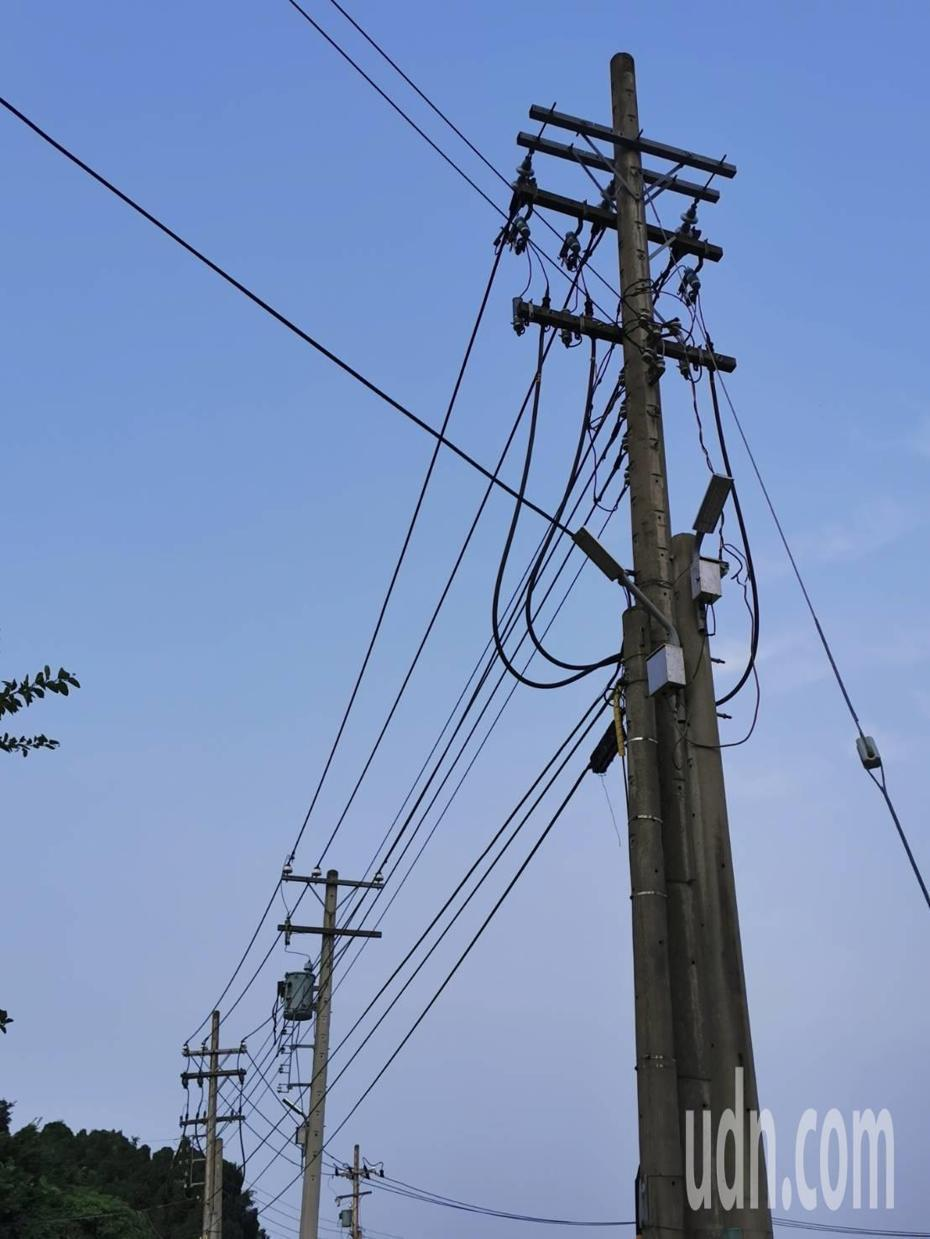utility_pole: (475, 32, 764, 416)
